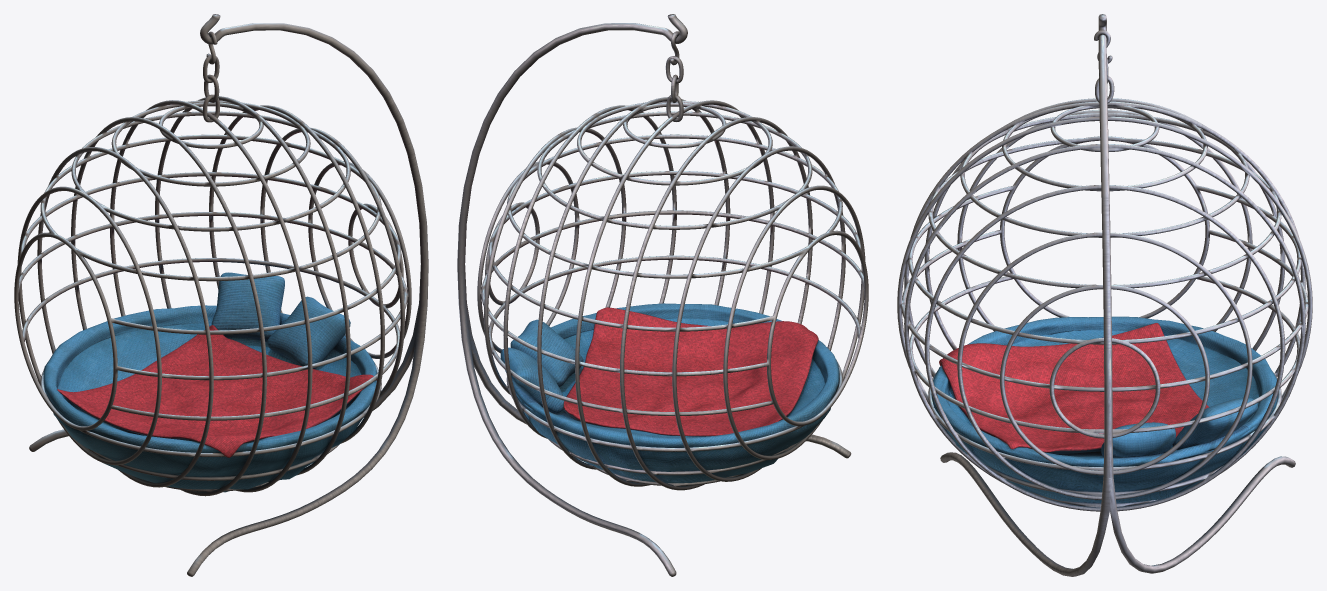
File: catbed.glb
3 views of the same model, side by side, from view 1: azimuth 30°, elevation 25°; view 2: azimuth 150°, elevation 25°; view 3: azimuth 270°, elevation 25° (orthographic). The views are drawn at different scales.
Parts seen in each view (by area): view 1: PetBed; view 2: PetBed; view 3: PetBed.
Boxes of the visible parts, x1=… form: PetBed: x1=14, y1=14, x2=428, y2=576; PetBed: x1=457, y1=14, x2=868, y2=576; PetBed: x1=897, y1=14, x2=1312, y2=576.
Bounding box in the file's own units: 2.13 × 2.68 × 2.02.
3 materials, 3 textured.
